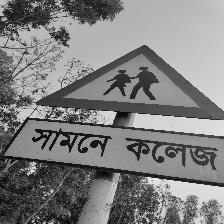College-in-front: (0, 47, 224, 216)
